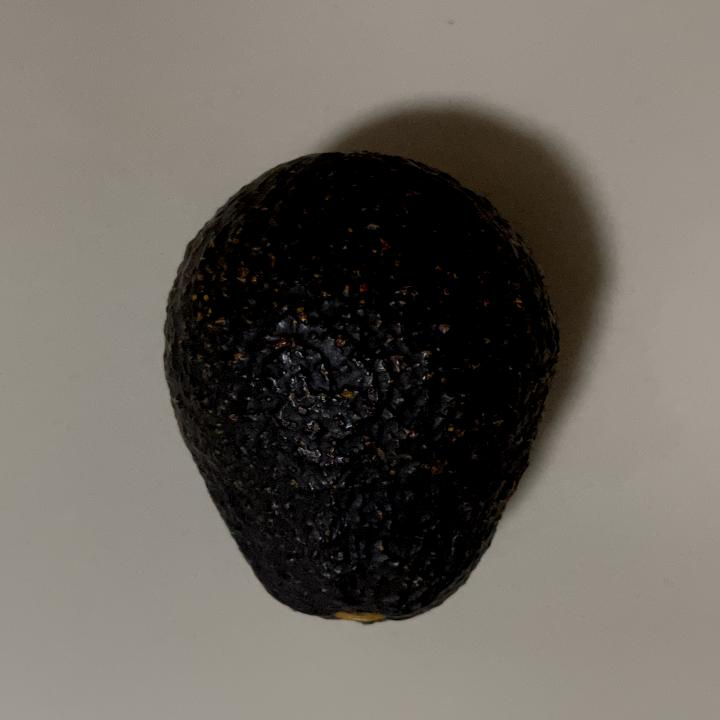Level2: (148, 145, 570, 634)
